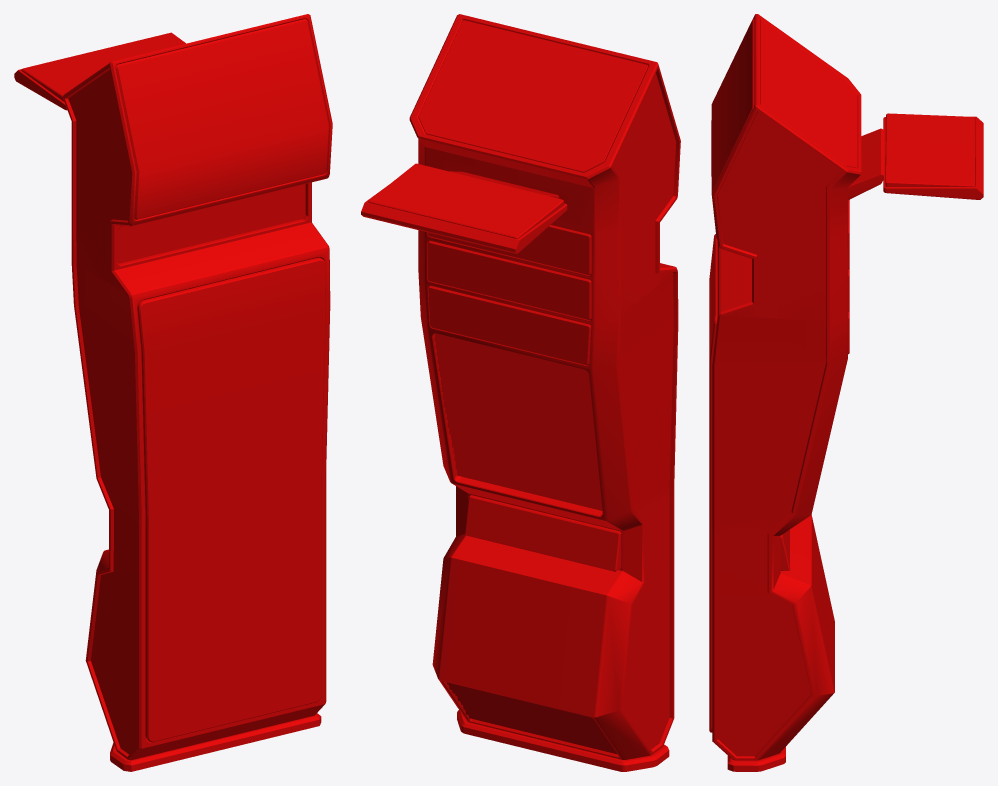
The model's file is Panel_3.fbx.
3 views of the same model, side by side, from view 1: azimuth 30°, elevation 25°; view 2: azimuth 150°, elevation 25°; view 3: azimuth 270°, elevation 25° (orthographic). The views are drawn at different scales.
Parts seen in each view (by area): view 1: L8:polySurface332; view 2: L8:polySurface332; view 3: L8:polySurface332.
Part boxes in pixels (x1,y1,x2,y2): L8:polySurface332: (14, 14, 332, 771); L8:polySurface332: (361, 14, 680, 771); L8:polySurface332: (709, 14, 983, 771).
Bounding box in the file's own units: 44.61 × 149 × 55.48.
